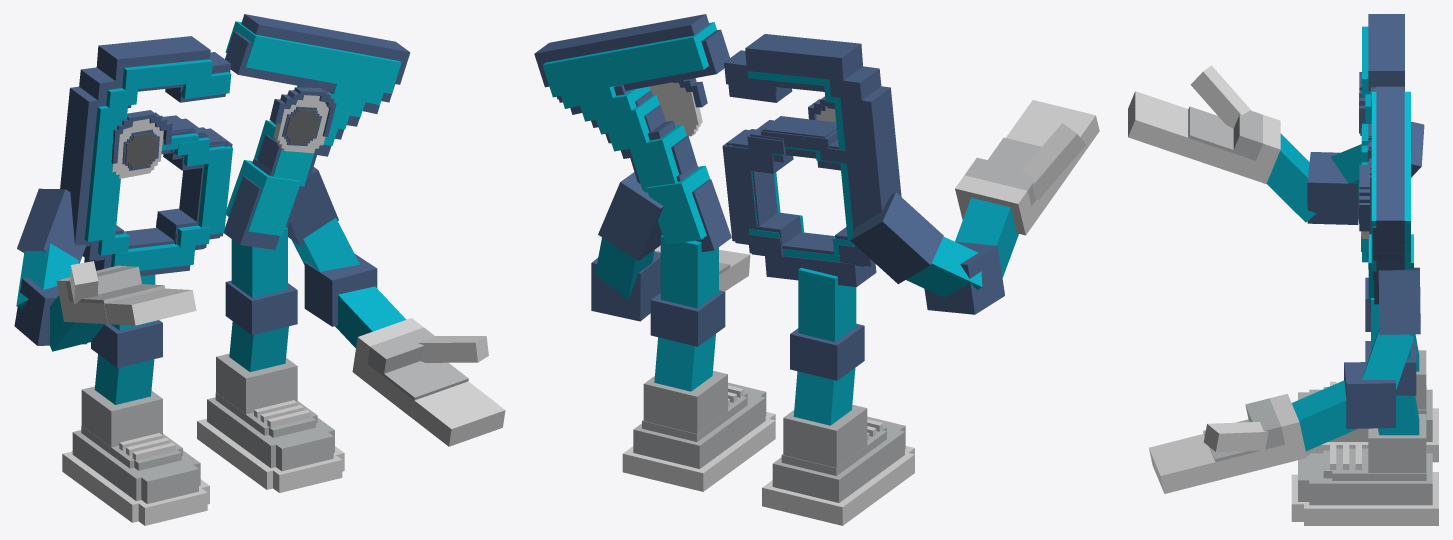
3 renders of one model, left to right at view 1: azimuth 30°, elevation 25°; view 2: azimuth 150°, elevation 25°; view 3: azimuth 270°, elevation 25°, orthographic. The views are drawn at different scales.
Parts seen in each view (by area): view 1: Mesh_Mesh_head_geo.001_lambert2SG.001; view 2: Mesh_Mesh_head_geo.001_lambert2SG.001; view 3: Mesh_Mesh_head_geo.001_lambert2SG.001.
Part boxes in pixels (x1,y1,x2,y2): Mesh_Mesh_head_geo.001_lambert2SG.001: (14, 14, 505, 525); Mesh_Mesh_head_geo.001_lambert2SG.001: (534, 14, 1099, 525); Mesh_Mesh_head_geo.001_lambert2SG.001: (1128, 14, 1438, 525).
Bounding box in the file's own units: 0.1126 × 0.1095 × 0.0734.
